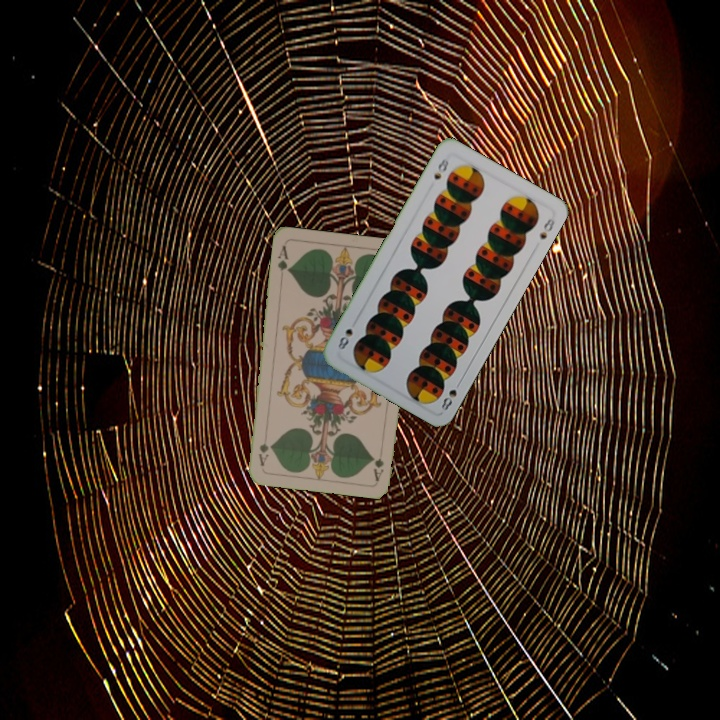GA: (370, 442, 386, 483), (274, 241, 292, 275)
S8: (437, 376, 464, 413), (430, 152, 451, 182)
